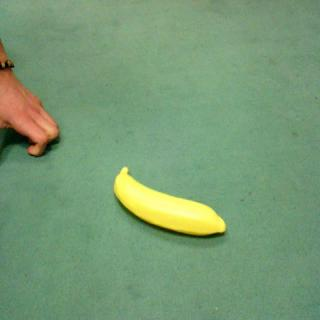banana: (108, 168, 236, 248)
